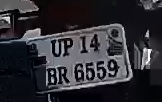1: (74, 34, 89, 56)
4: (89, 34, 101, 54)
5: (85, 60, 96, 86), (95, 58, 107, 81)
6: (73, 61, 84, 83)
9: (106, 57, 121, 81)
B: (45, 66, 58, 88)
P: (63, 36, 74, 59)
R: (57, 63, 71, 86)
U: (50, 38, 63, 60)
